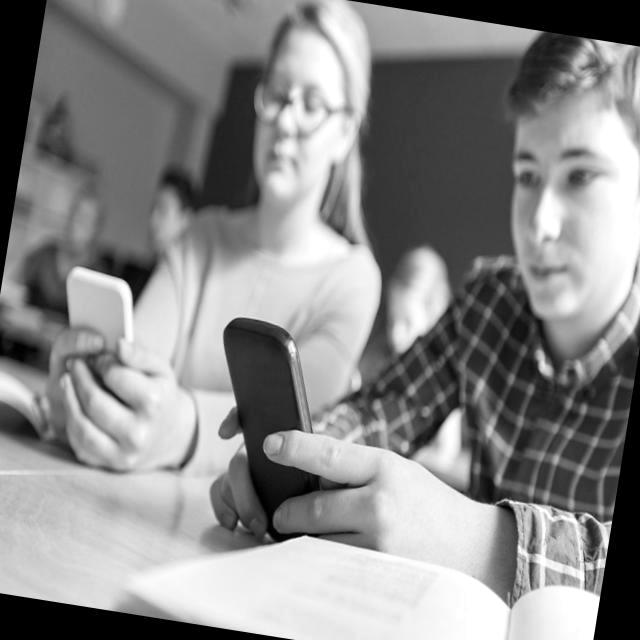phone: (192, 313, 346, 546), (55, 264, 144, 359)
